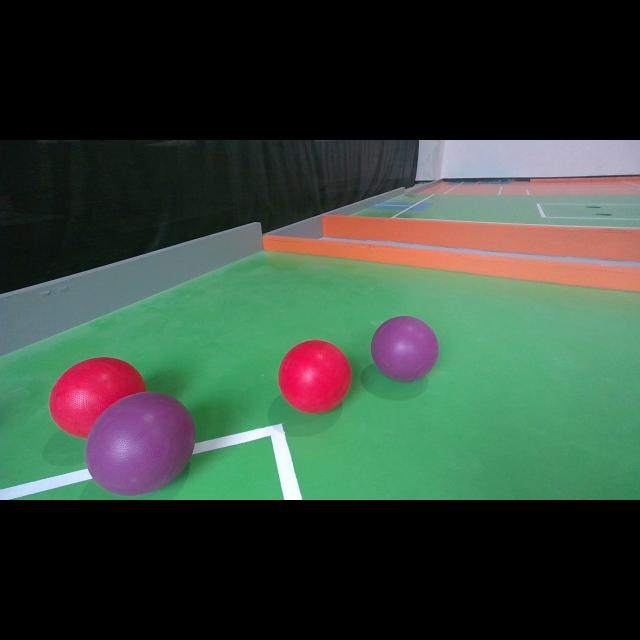P: (84, 392, 196, 496), (371, 316, 439, 382)
R: (49, 357, 144, 437), (278, 341, 352, 414)
